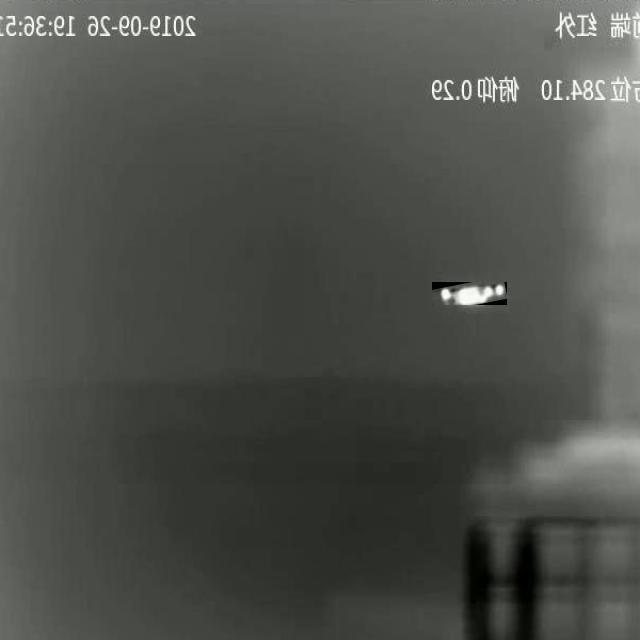drone: (432, 282, 506, 305)
